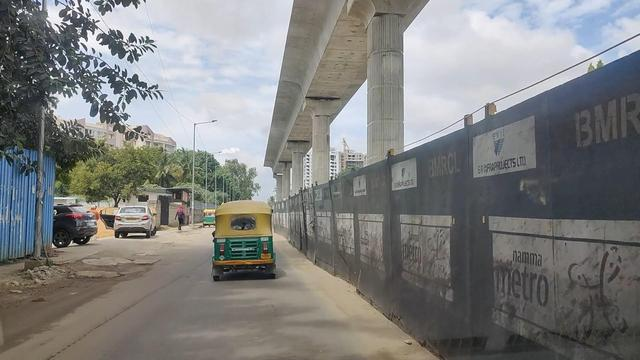LMV: (207, 198, 282, 282), (100, 196, 159, 240)
RoadDamages: (69, 252, 162, 281)
